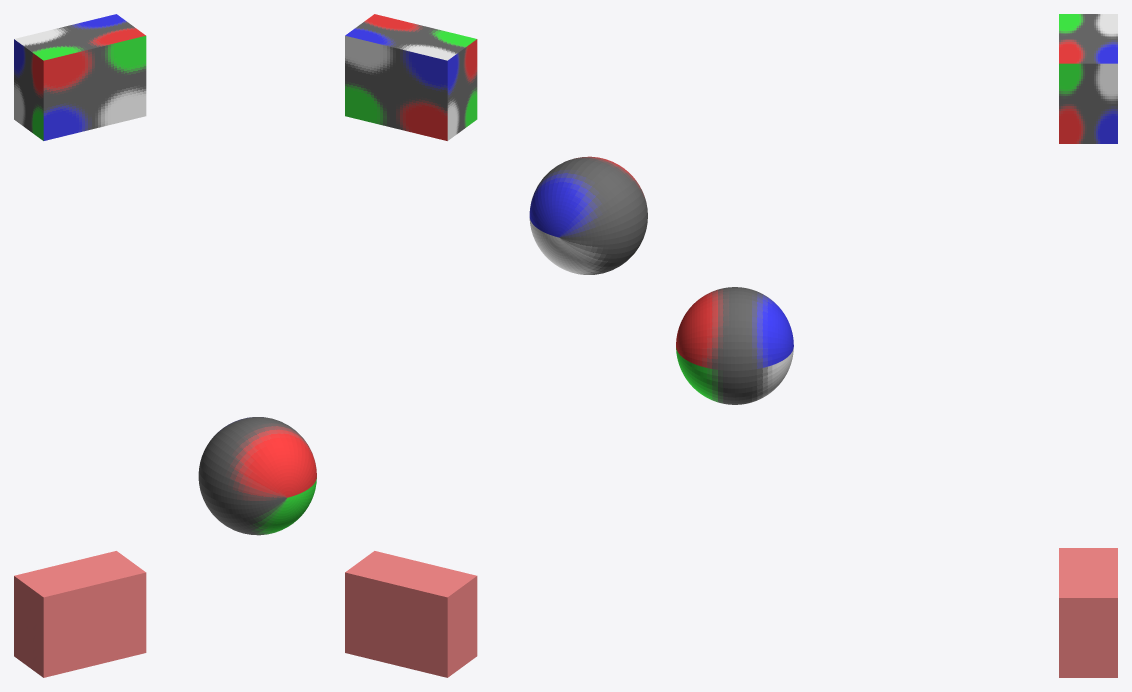
File: color.gltf
3 renders of one model, left to right at view 1: azimuth 30°, elevation 25°; view 2: azimuth 150°, elevation 25°; view 3: azimuth 270°, elevation 25°, orthographic.
Parts seen in each view (by area): view 1: Renderer Node; view 2: Renderer Node; view 3: Renderer Node.
Part boxes in pixels (x1,y1,x2,y2): Renderer Node: (14, 14, 316, 677); Renderer Node: (345, 14, 647, 677); Renderer Node: (676, 14, 1117, 677).
Bounding box in the file's own units: 0.1 × 0.575 × 0.375.
Materials: 3 (2 with a texture image).
